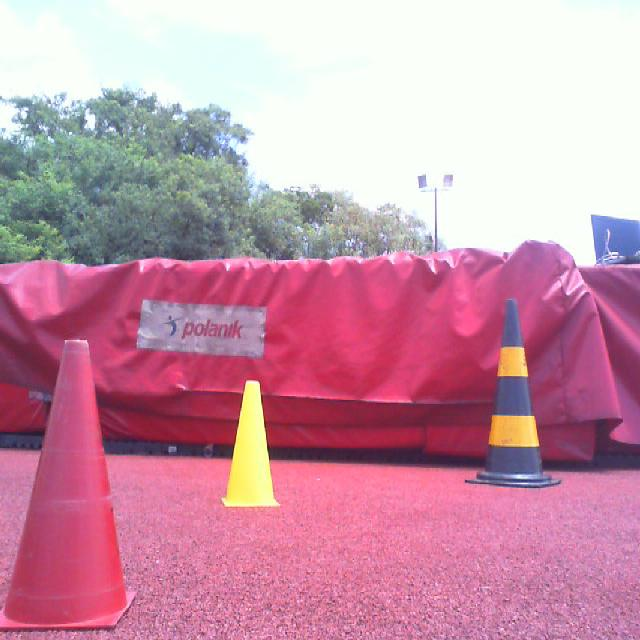cone: (0, 340, 136, 629), (464, 302, 562, 489), (222, 380, 279, 505)
